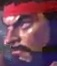ryu: (0, 0, 51, 64)
